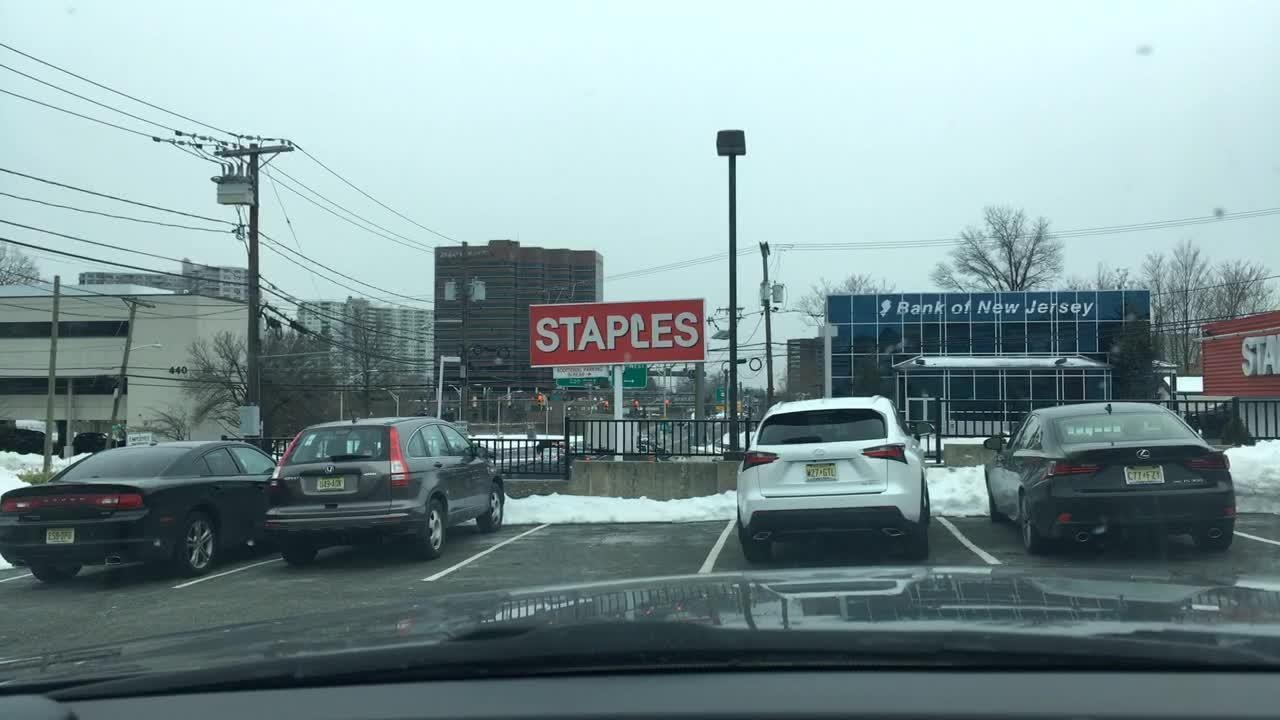Honda: (322, 464, 338, 478)
lexus: (1133, 445, 1157, 463), (810, 448, 828, 460)
